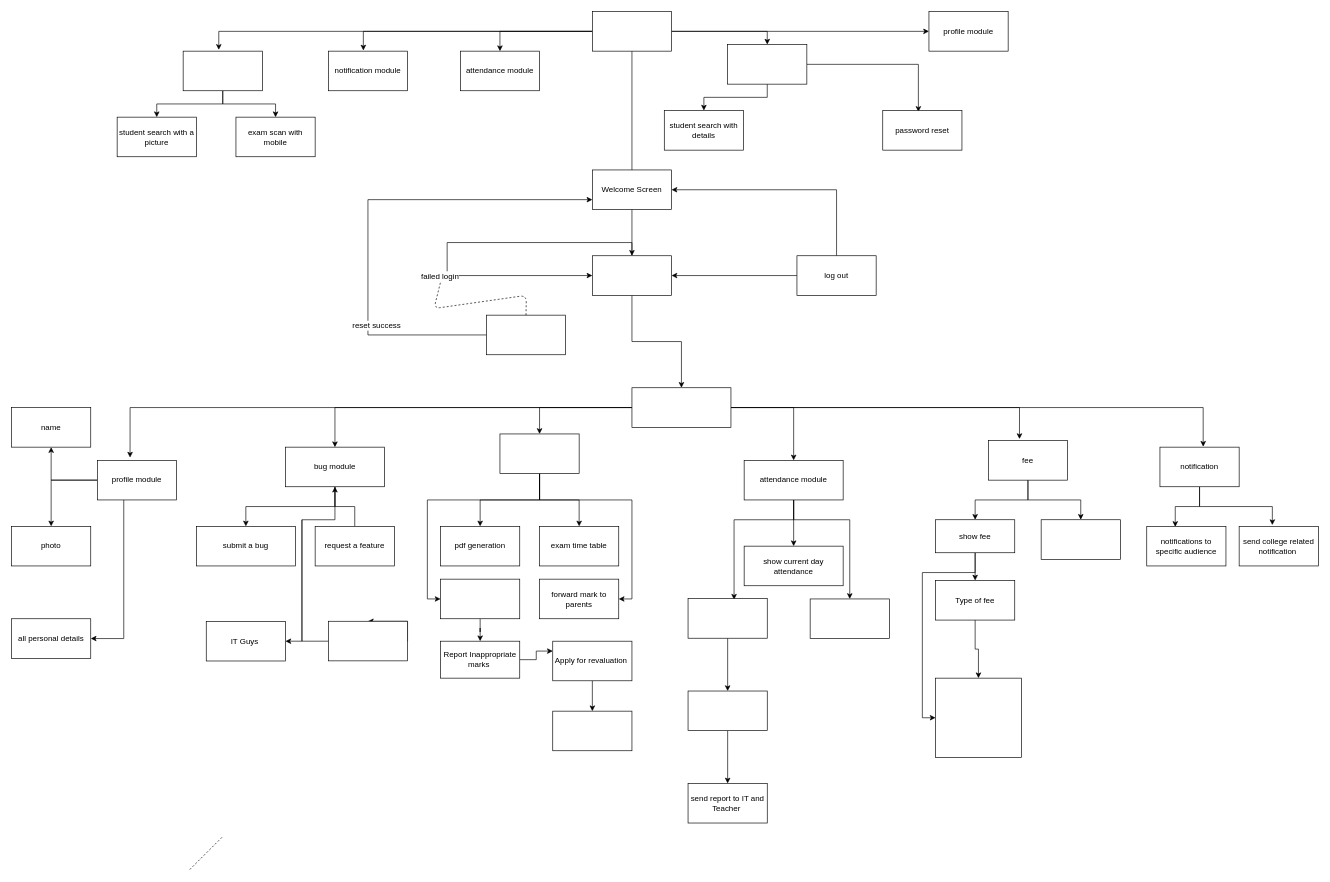
Some shapes in this 1330 by 882 pixel diagram are drawn without their labels. The shapes that lost their labels are listed below. From the top down, each one's box as (x1, y1, x2, y2) in pixels, then its label:
(592, 11, 672, 51): admin
(182, 50, 262, 91): experimental modules
(727, 44, 807, 84): student module
(592, 255, 672, 295): login
(486, 314, 566, 355): Forget password
(631, 387, 731, 427): welcome page with attendance%,fee,time table,exam
(499, 433, 579, 474): exam module
(1040, 519, 1120, 559): search fee for another dep
(440, 578, 520, 619): Exam marks
(687, 598, 767, 638): attendance b/w dates
(809, 598, 889, 639): submit a request to teacher
(328, 621, 408, 661): text developers
(552, 710, 632, 751): Apply for Supplementary
(687, 690, 767, 731): Report unmarked attendance
(935, 677, 1021, 757): Report Transaction Issues
